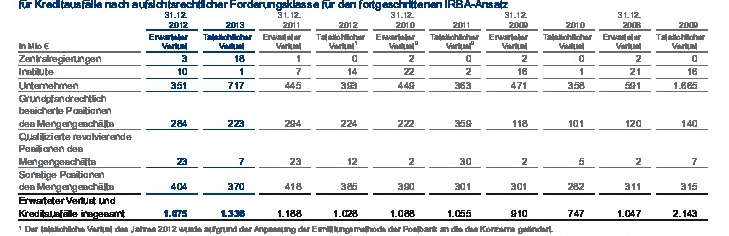table: (0, 0, 729, 236)
